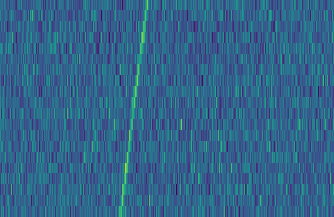signal: (114, 0, 151, 217)
